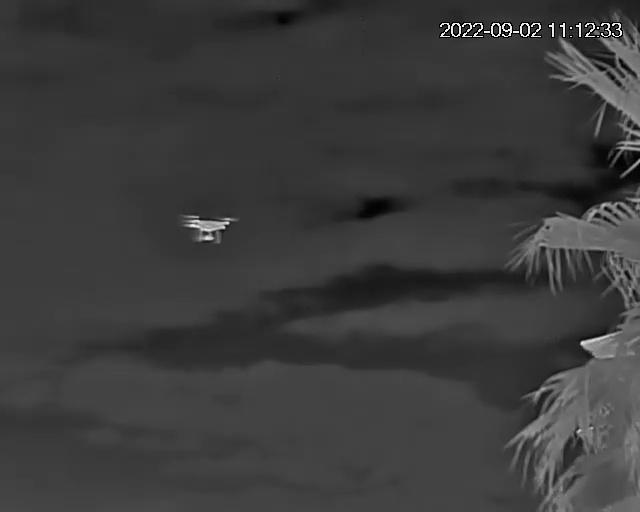DJI-Phantom: (180, 212, 241, 248)
